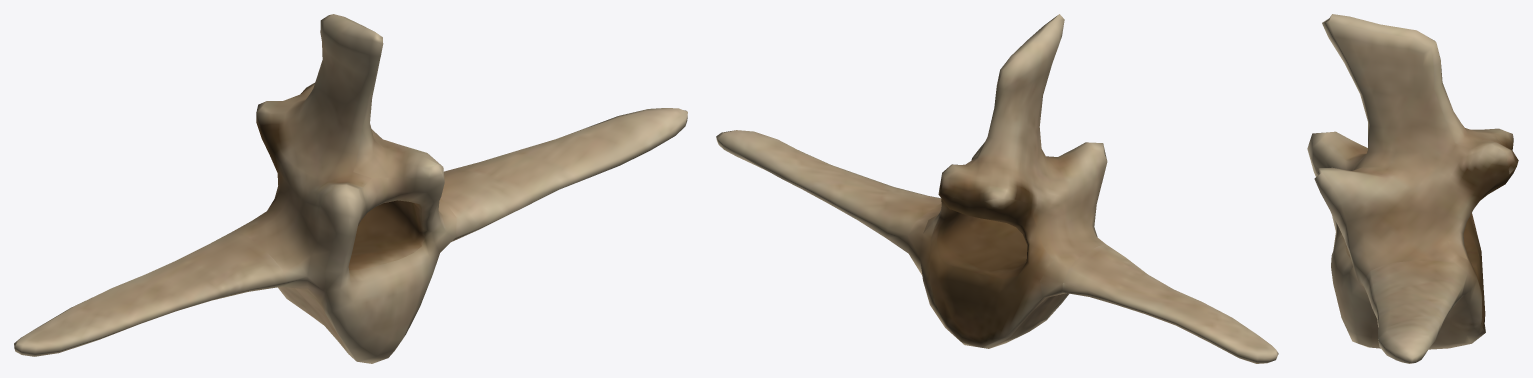
The model's file is Lumbar_Vertebrae5.glb.
3 renders of one model, left to right at view 1: azimuth 30°, elevation 25°; view 2: azimuth 150°, elevation 25°; view 3: azimuth 270°, elevation 25°, orthographic. The views are drawn at different scales.
Parts seen in each view (by area): view 1: Horse_low:SelSet_23Merged_L_Frt_Sesamoid_Bones_4; view 2: Horse_low:SelSet_23Merged_L_Frt_Sesamoid_Bones_4; view 3: Horse_low:SelSet_23Merged_L_Frt_Sesamoid_Bones_4.
Part boxes in pixels (bbox=[...]): Horse_low:SelSet_23Merged_L_Frt_Sesamoid_Bones_4: bbox=[14, 14, 687, 363]; Horse_low:SelSet_23Merged_L_Frt_Sesamoid_Bones_4: bbox=[716, 14, 1278, 363]; Horse_low:SelSet_23Merged_L_Frt_Sesamoid_Bones_4: bbox=[1307, 14, 1518, 363].
Size of the model in its own units: 0.2656 by 0.1352 by 0.0789.
1 material, 1 textured.
